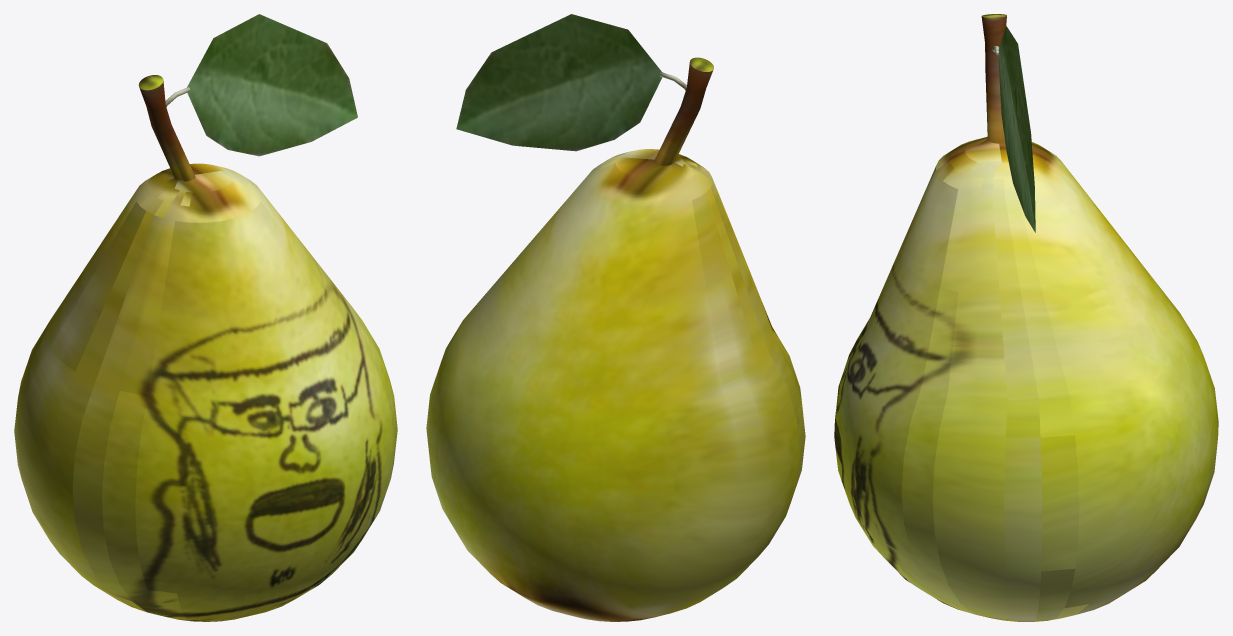
File: braylinPERA.glb
3 renders of one model, left to right at view 1: azimuth 30°, elevation 25°; view 2: azimuth 150°, elevation 25°; view 3: azimuth 270°, elevation 25°, orthographic.
Parts seen in each view (by area): view 1: Cylinder.003; view 2: Cylinder.003; view 3: Cylinder.003.
Part boxes in pixels (<box>): Cylinder.003: <box>14,14,397,621</box>; Cylinder.003: <box>426,14,805,621</box>; Cylinder.003: <box>834,14,1218,621</box>.
Bounding box in the file's own units: 1.59 × 2.67 × 1.59.
Materials: 2 (2 with a texture image).
